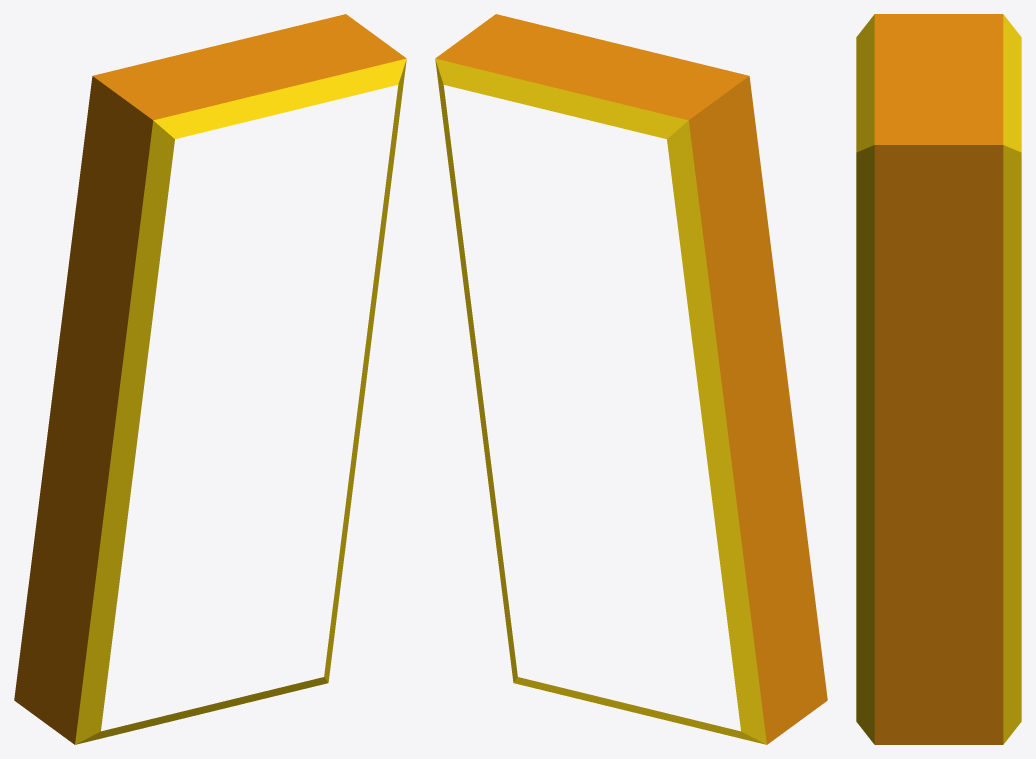
File: launch_slab_walls.glb
3 renders of one model, left to right at view 1: azimuth 30°, elevation 25°; view 2: azimuth 150°, elevation 25°; view 3: azimuth 270°, elevation 25°, orthographic. The views are drawn at different scales.
Parts seen in each view (by area): view 1: slab_walls; view 2: slab_walls; view 3: slab_walls.
Part boxes in pixels (x1,y1,x2,y2): slab_walls: [14, 14, 406, 744]; slab_walls: [435, 14, 827, 744]; slab_walls: [856, 14, 1021, 744].
Bounding box in the file's own units: 0.1103 × 0.1923 × 0.045.
